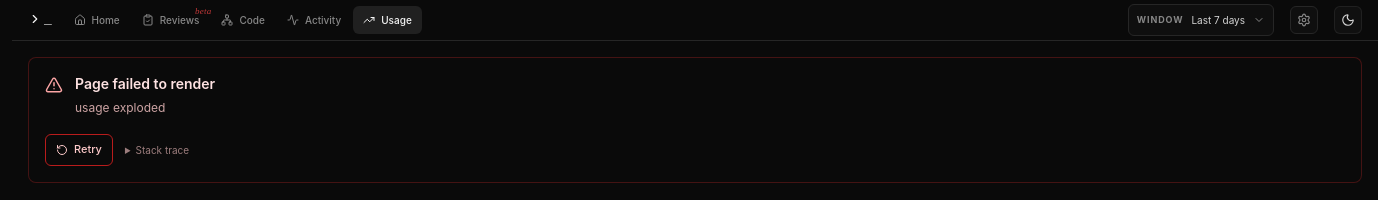
App shell failure and availability handling › clears a page render error when the reader navigates to another page
Check: the text "usage exploded" is shown, box [75,100,165,115]
Step 1. Click the link "Home" → (97, 20), box [74,14,120,26]
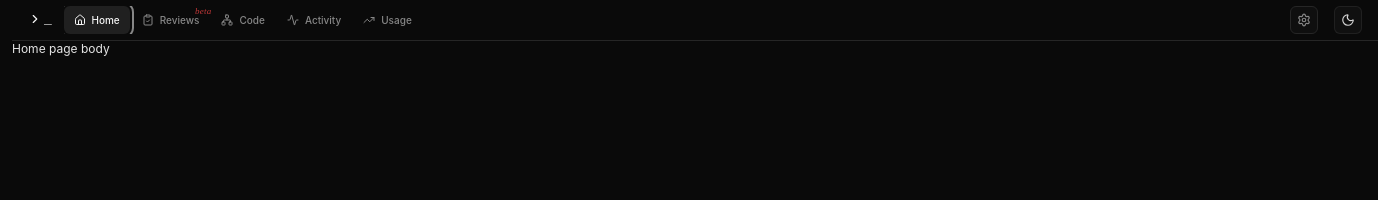
Check: the text "Home page body" is shown, box [12,41,110,56]
Check: the text "usage exploded" is gone
